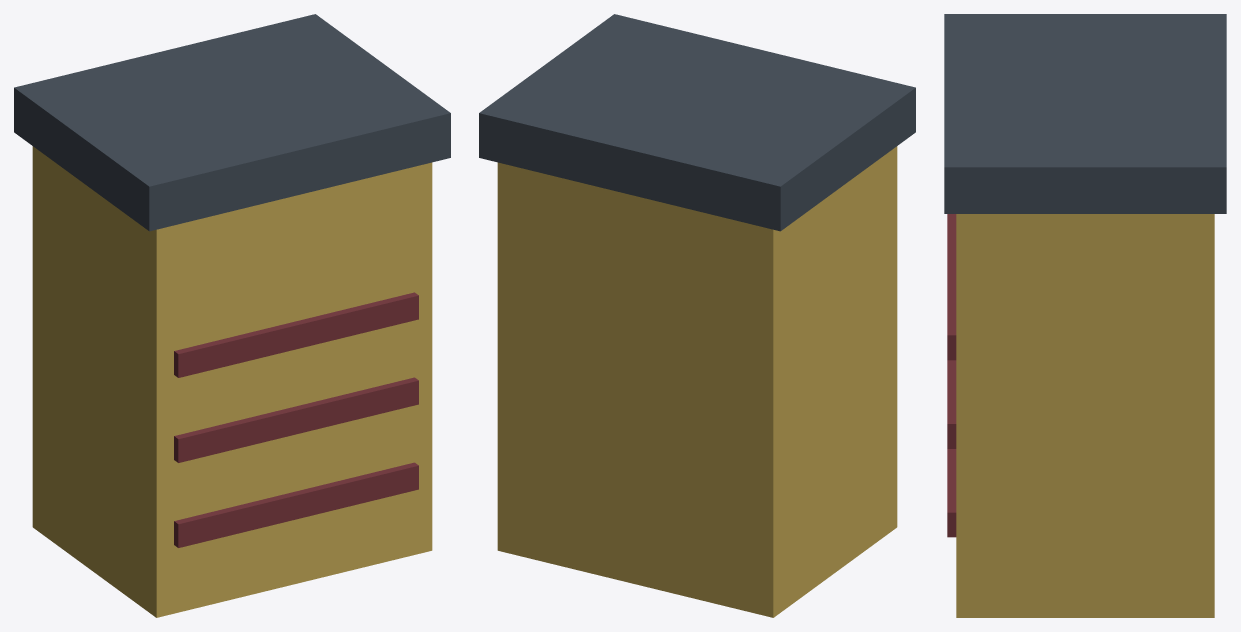
The model's file is baskets.glb.
3 renders of one model, left to right at view 1: azimuth 30°, elevation 25°; view 2: azimuth 150°, elevation 25°; view 3: azimuth 270°, elevation 25°, orthographic. The views are drawn at different scales.
Size of the model in its own units: 0.423 by 0.588 by 0.329.
Materials: 1 (1 with a texture image).
